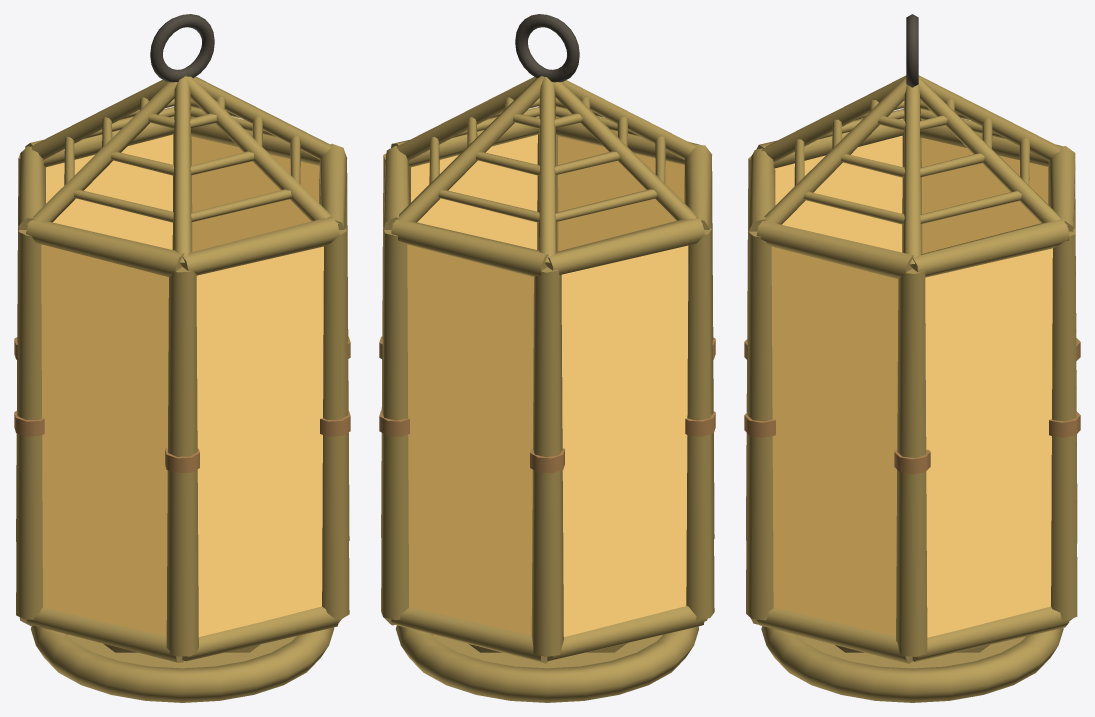
Rendered from LV_DEN_LONG_01.glb.
3 renders of one model, left to right at view 1: azimuth 30°, elevation 25°; view 2: azimuth 150°, elevation 25°; view 3: azimuth 270°, elevation 25°, orthographic.
Parts seen in each view (by area): view 1: LV_DEN_LONG_01-surface-e8ca86, LV_DEN_LONG_01-surface-b59b56, LV_DEN_LONG_01-surface-514b40, LV_DEN_LONG_01-surface-b68850; view 2: LV_DEN_LONG_01-surface-e8ca86, LV_DEN_LONG_01-surface-b59b56, LV_DEN_LONG_01-surface-514b40, LV_DEN_LONG_01-surface-b68850; view 3: LV_DEN_LONG_01-surface-e8ca86, LV_DEN_LONG_01-surface-b59b56, LV_DEN_LONG_01-surface-b68850, LV_DEN_LONG_01-surface-514b40.
Part boxes in pixels (x1=…): LV_DEN_LONG_01-surface-e8ca86: x1=41, y1=134, x2=323, y2=636; LV_DEN_LONG_01-surface-b59b56: x1=16, y1=76, x2=349, y2=702; LV_DEN_LONG_01-surface-514b40: x1=150, y1=14, x2=214, y2=82; LV_DEN_LONG_01-surface-b68850: x1=14, y1=336, x2=350, y2=473; LV_DEN_LONG_01-surface-e8ca86: x1=407, y1=134, x2=688, y2=636; LV_DEN_LONG_01-surface-b59b56: x1=381, y1=76, x2=714, y2=702; LV_DEN_LONG_01-surface-514b40: x1=515, y1=14, x2=579, y2=82; LV_DEN_LONG_01-surface-b68850: x1=379, y1=336, x2=715, y2=473; LV_DEN_LONG_01-surface-e8ca86: x1=771, y1=135, x2=1052, y2=637; LV_DEN_LONG_01-surface-b59b56: x1=746, y1=75, x2=1077, y2=702; LV_DEN_LONG_01-surface-b68850: x1=744, y1=338, x2=1080, y2=474; LV_DEN_LONG_01-surface-514b40: x1=906, y1=14, x2=918, y2=87.
Bounding box in the file's own units: 0.4862 × 0.879 × 0.4273.
